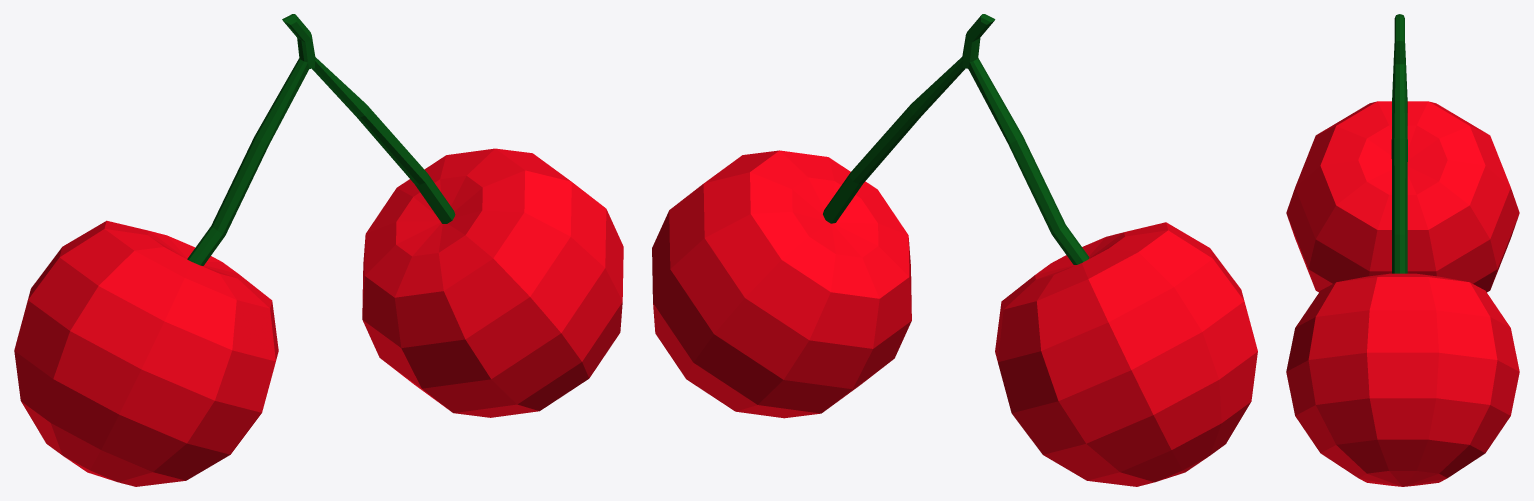
The model's file is Cereja.fbx.
3 views of the same model, side by side, from view 1: azimuth 30°, elevation 25°; view 2: azimuth 150°, elevation 25°; view 3: azimuth 270°, elevation 25° (orthographic). The views are drawn at different scales.
Parts seen in each view (by area): view 1: Cereja; view 2: Cereja; view 3: Cereja.
Part boxes in pixels (x1=…): Cereja: x1=14, y1=14, x2=623, y2=486; Cereja: x1=652, y1=14, x2=1257, y2=486; Cereja: x1=1286, y1=14, x2=1519, y2=486.
Bounding box in the file's own units: 17.77 × 13.01 × 7.35.
1 material, 1 textured.
